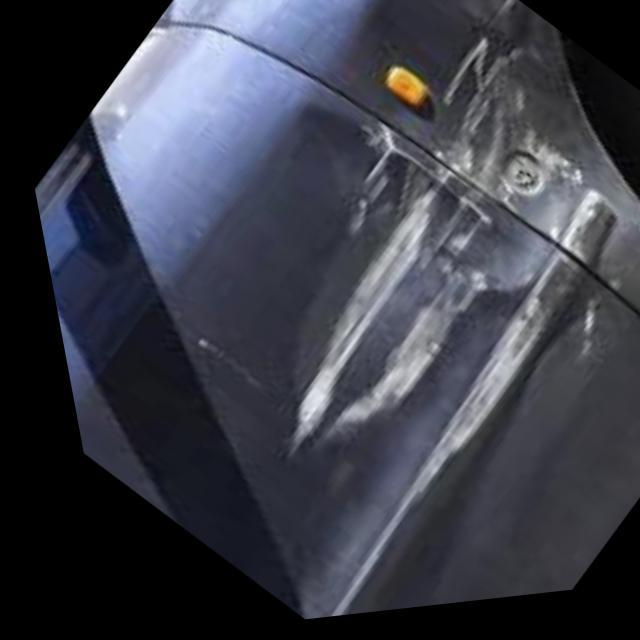rub: (270, 45, 576, 457), (421, 308, 531, 470)
